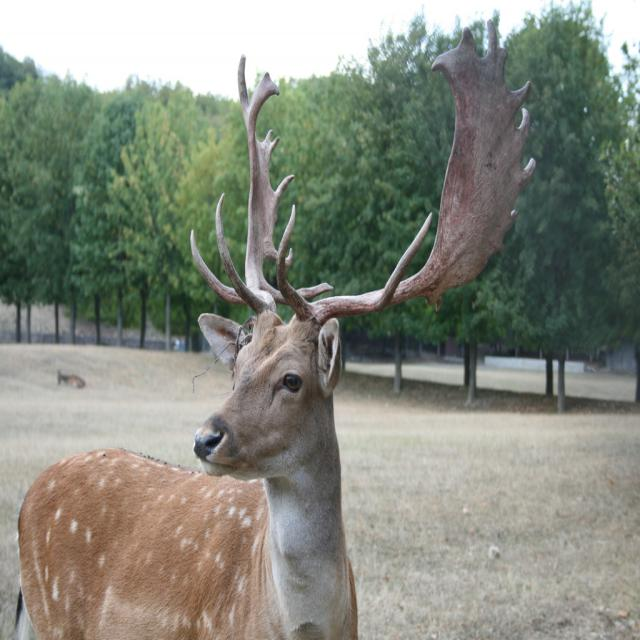Deer: (15, 18, 536, 640), (56, 369, 85, 388)
